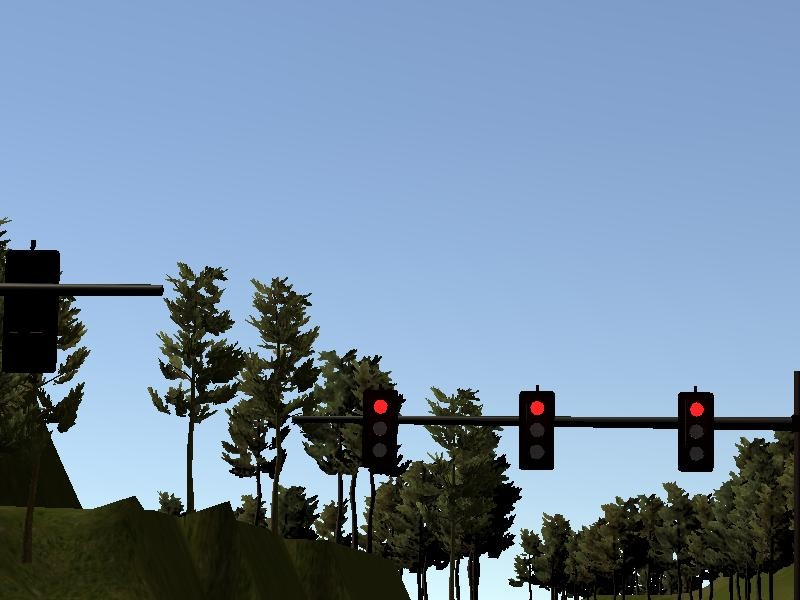red: (675, 387, 717, 475), (516, 387, 557, 473), (359, 387, 400, 470)
